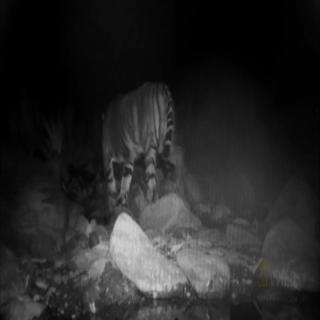Tiger: (91, 69, 183, 224)
